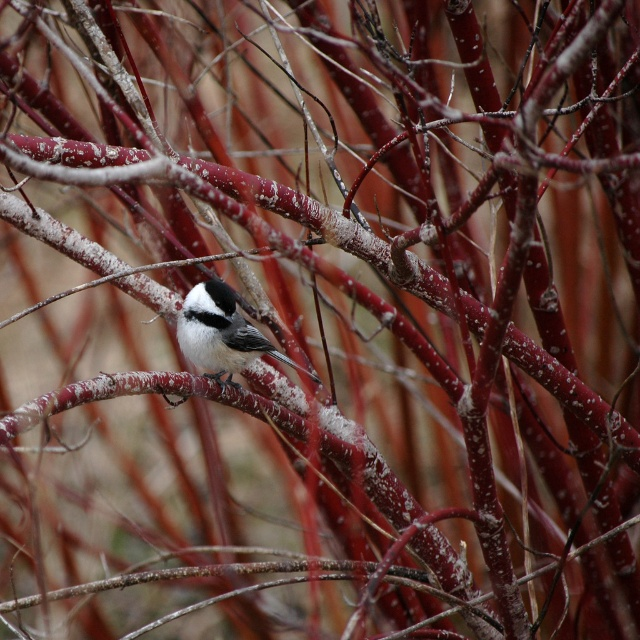Sparrow: (177, 279, 317, 390)
